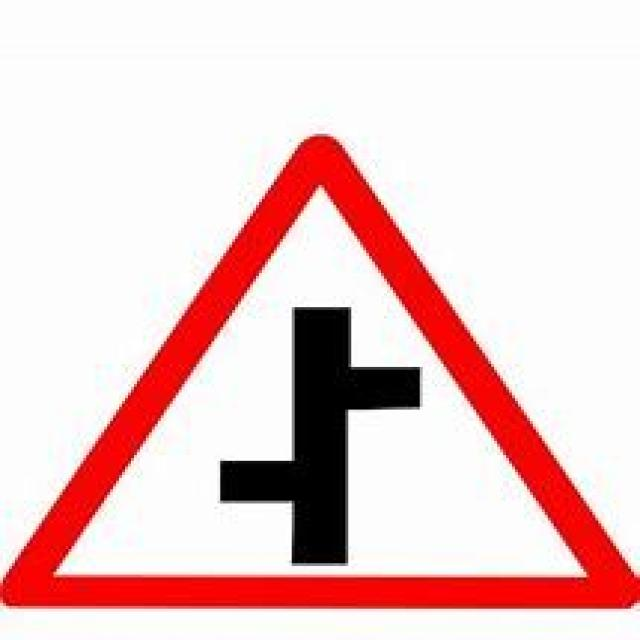STAGGERED_INTERSECTION: (0, 104, 640, 626)
